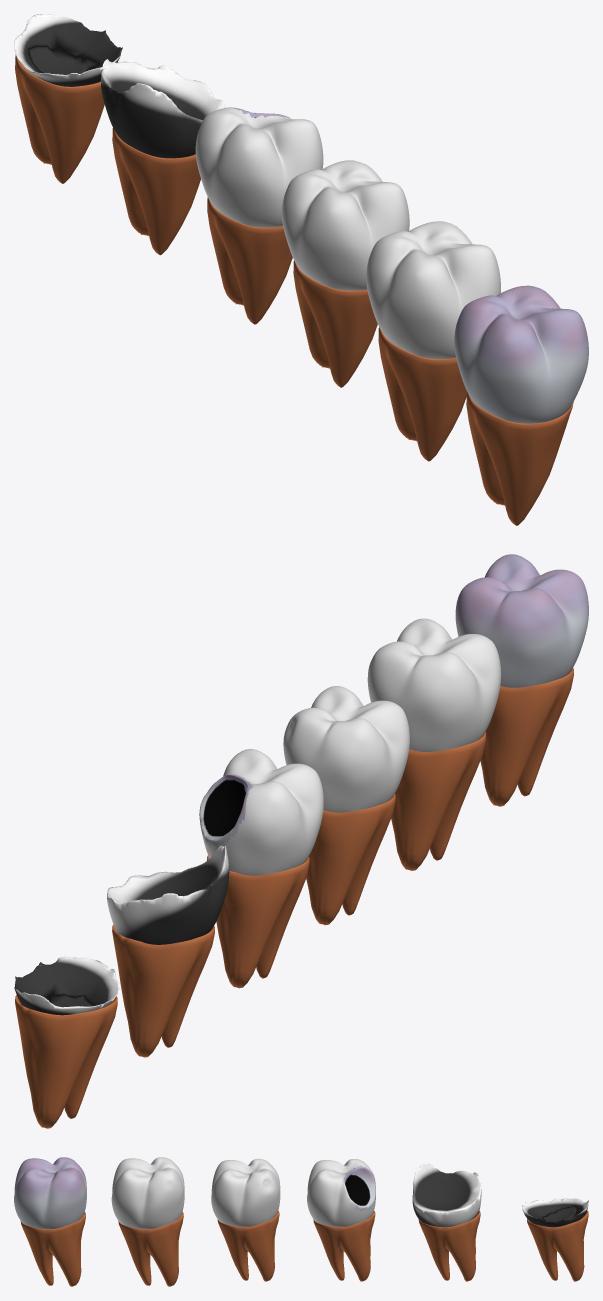
File: tish.glb
3 views of the same model, one above another, from view 1: azimuth 30°, elevation 25°; view 2: azimuth 150°, elevation 25°; view 3: azimuth 270°, elevation 25° (orthographic). The views are drawn at different scales.
Parts seen in each view (by area): view 1: Cube, Cube.001, Cube.004, Cube.006, Cube.008, Cube.002, Cube.003, Cube.011, Cube.009, Cube.007, Cube.005, Cube.010; view 2: Cube.001, Cube, Cube.006, Cube.004, Cube.011, Cube.009, Cube.008, Cube.003, Cube.002, Cube.007, Cube.005, Cube.010; view 3: Cube, Cube.001, Cube.004, Cube.006, Cube.008, Cube.003, Cube.002, Cube.007, Cube.005, Cube.011, Cube.009, Cube.010.
Boxes of the visible parts, <box> form: Cube: <box>454,285,588,423</box>; Cube.001: <box>366,221,500,359</box>; Cube.004: <box>282,160,409,290</box>; Cube.006: <box>195,107,323,227</box>; Cube.008: <box>101,59,224,158</box>; Cube.002: <box>466,391,573,525</box>; Cube.003: <box>378,327,466,461</box>; Cube.011: <box>15,55,104,183</box>; Cube.009: <box>112,128,200,255</box>; Cube.007: <box>207,197,292,324</box>; Cube.005: <box>293,260,377,387</box>; Cube.010: <box>14,14,122,86</box>; Cube.001: <box>367,618,501,751</box>; Cube: <box>455,554,588,687</box>; Cube.006: <box>199,749,323,875</box>; Cube.004: <box>283,686,409,812</box>; Cube.011: <box>15,995,117,1128</box>; Cube.009: <box>112,924,214,1057</box>; Cube.008: <box>107,846,229,944</box>; Cube.003: <box>391,732,485,870</box>; Cube.002: <box>480,668,573,806</box>; Cube.007: <box>207,855,309,988</box>; Cube.005: <box>306,793,395,925</box>; Cube.010: <box>14,956,119,1015</box>; Cube: <box>14,1157,86,1229</box>; Cube.001: <box>111,1157,184,1229</box>; Cube.004: <box>211,1158,280,1227</box>; Cube.006: <box>307,1159,375,1227</box>; Cube.008: <box>412,1162,481,1227</box>; Cube.003: <box>118,1212,183,1286</box>; Cube.002: <box>20,1212,85,1286</box>; Cube.007: <box>313,1211,375,1281</box>; Cube.005: <box>217,1211,279,1281</box>; Cube.011: <box>527,1211,588,1281</box>; Cube.009: <box>418,1211,480,1281</box>; Cube.010: <box>522,1198,588,1227</box>.
Bounding box in the file's own units: 2.56 × 5.02 × 21.38.
Materials: 7 (6 with a texture image).
